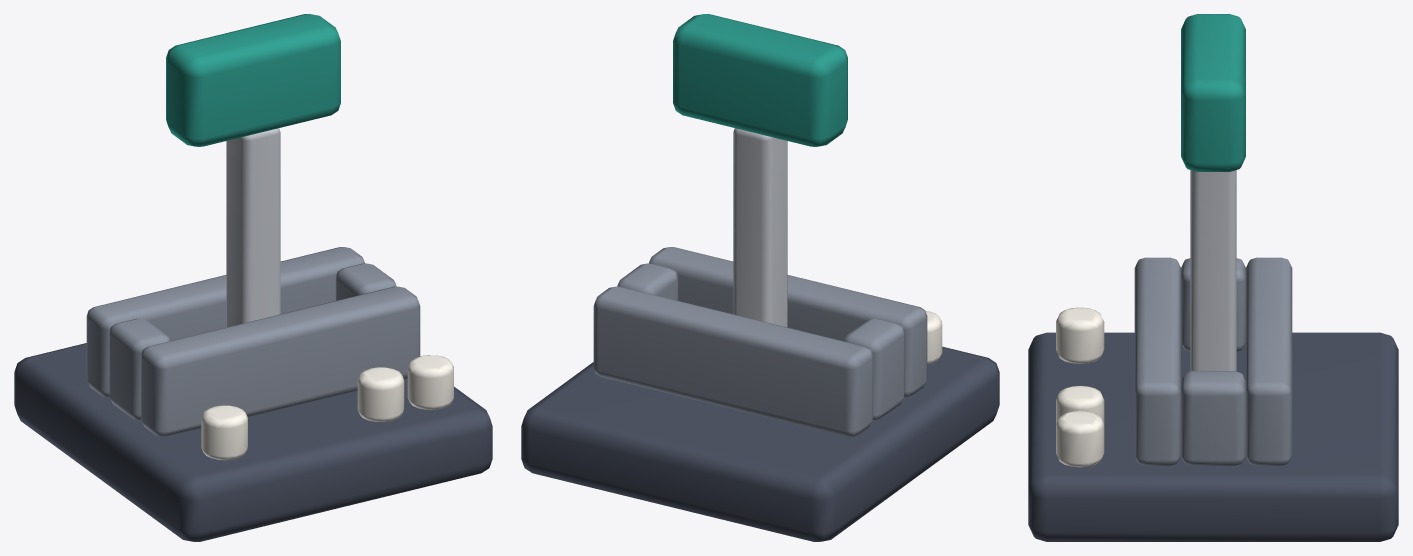
Rendered from Ctrl_RouteLever.glb.
The picture shows the model from 3 angles, left to right: view 1: azimuth 30°, elevation 25°; view 2: azimuth 150°, elevation 25°; view 3: azimuth 270°, elevation 25°; orthographic projection. The views are drawn at different scales.
Parts seen in each view (by area): view 1: Ctrl_RouteLever.Base, Ctrl_RouteLever.Guide, Ctrl_RouteLever.Move_Lever, Ctrl_RouteLever.Marks; view 2: Ctrl_RouteLever.Base, Ctrl_RouteLever.Guide, Ctrl_RouteLever.Move_Lever, Ctrl_RouteLever.Marks; view 3: Ctrl_RouteLever.Base, Ctrl_RouteLever.Guide, Ctrl_RouteLever.Move_Lever, Ctrl_RouteLever.Marks.
Boxes of the visible parts, x1,y1,x2,y2 form: Ctrl_RouteLever.Base: (14,343,492,541); Ctrl_RouteLever.Guide: (86,247,420,436); Ctrl_RouteLever.Move_Lever: (166,14,340,327); Ctrl_RouteLever.Marks: (201,355,453,460); Ctrl_RouteLever.Base: (521,346,999,541); Ctrl_RouteLever.Guide: (593,247,927,436); Ctrl_RouteLever.Move_Lever: (673,14,847,327); Ctrl_RouteLever.Marks: (925,311,942,364); Ctrl_RouteLever.Base: (1028,332,1398,541); Ctrl_RouteLever.Guide: (1134,257,1292,465); Ctrl_RouteLever.Move_Lever: (1181,14,1245,371); Ctrl_RouteLever.Marks: (1056,307,1104,467).
Bounding box in the file's own units: 0.2 × 0.2525 × 0.2.
Materials: 1 (1 with a texture image).
